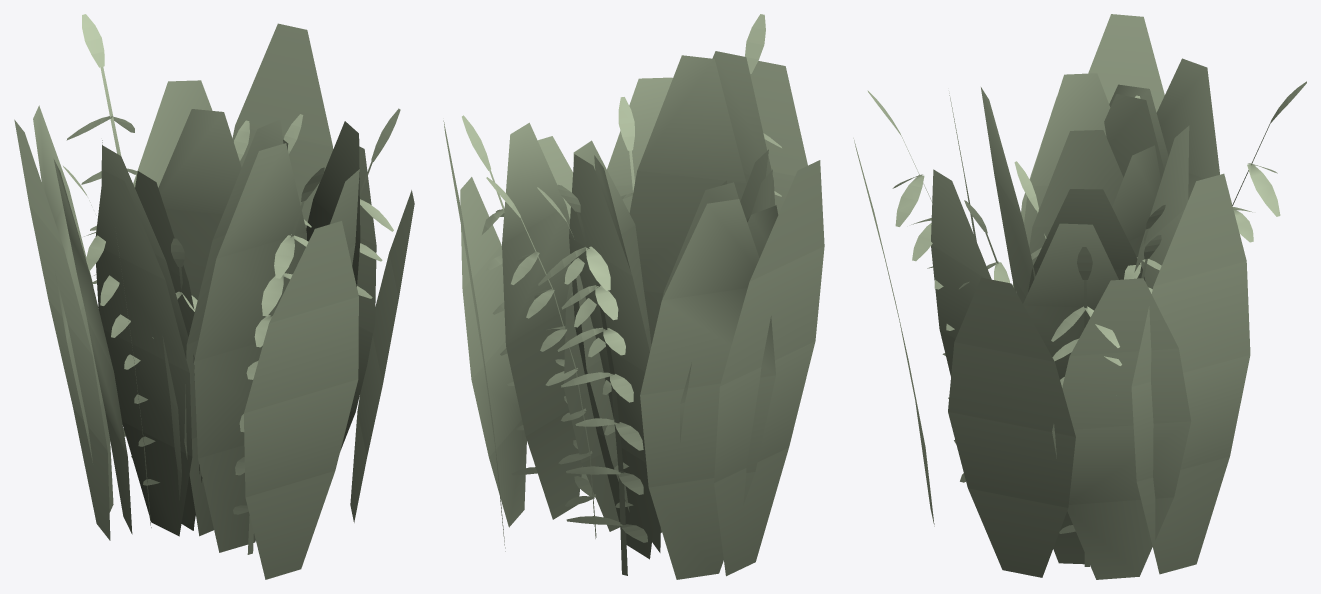
The model's file is herb_fern.glb.
3 views of the same model, side by side, from view 1: azimuth 30°, elevation 25°; view 2: azimuth 150°, elevation 25°; view 3: azimuth 270°, elevation 25° (orthographic). The views are drawn at different scales.
Visible parts, largest first — view 1: v0_foliage, v1_foliage; view 2: v0_foliage, v1_foliage; view 3: v0_foliage, v1_foliage.
Part boxes in pixels (x1,y1,x2,y2): v0_foliage: (14,23,414,579); v1_foliage: (63,14,400,554); v0_foliage: (443,51,824,579); v1_foliage: (462,14,781,575); v0_foliage: (853,14,1250,579); v1_foliage: (867,81,1306,566).
Bounding box in the file's own units: 0.8833 × 1 × 0.9543.
